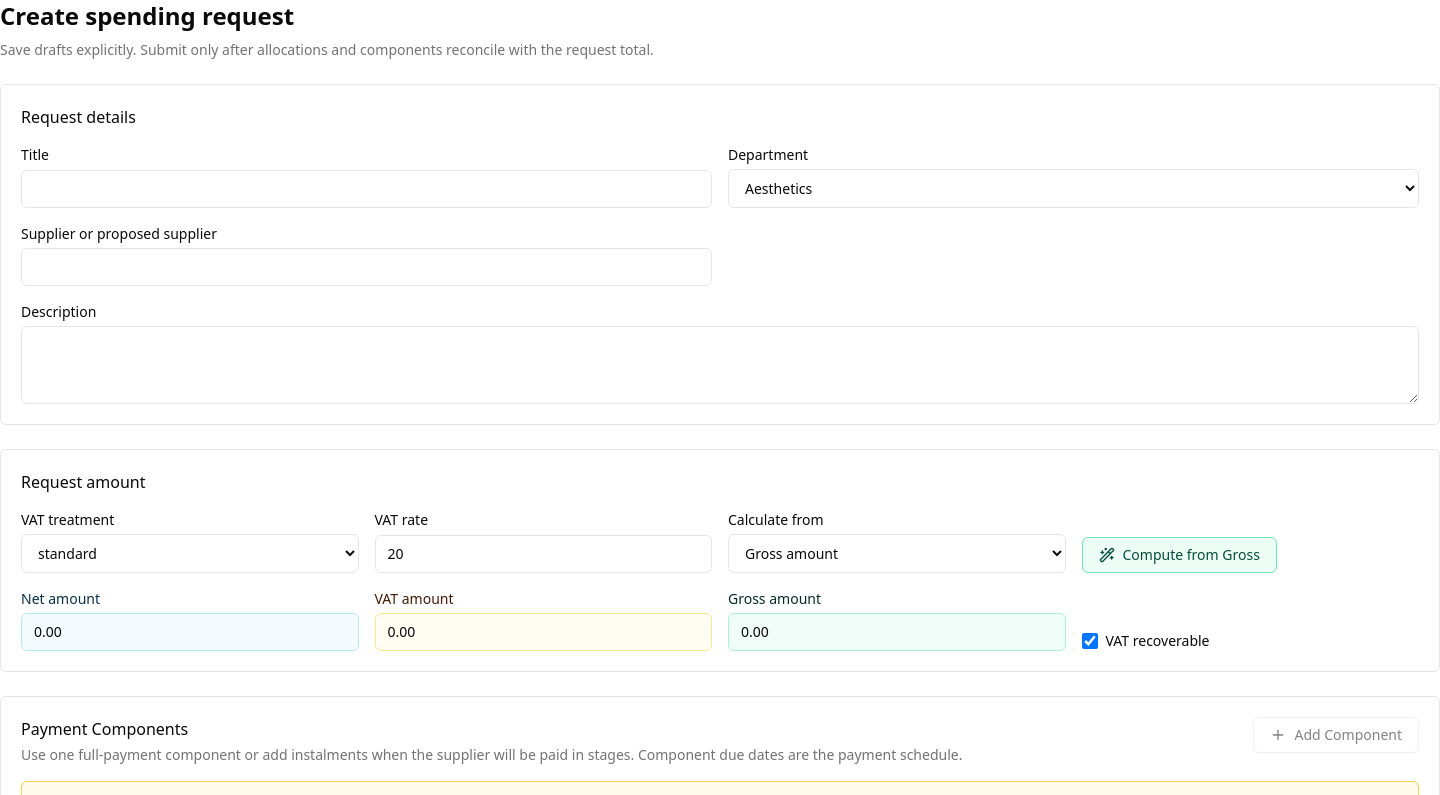
Test case: Stage 5 spending request panels › gates payment components until parent request totals reconcile
Replace the text in the field labelled "Gross amount" with "2000.00" at (897, 632), box [728, 613, 1066, 651]
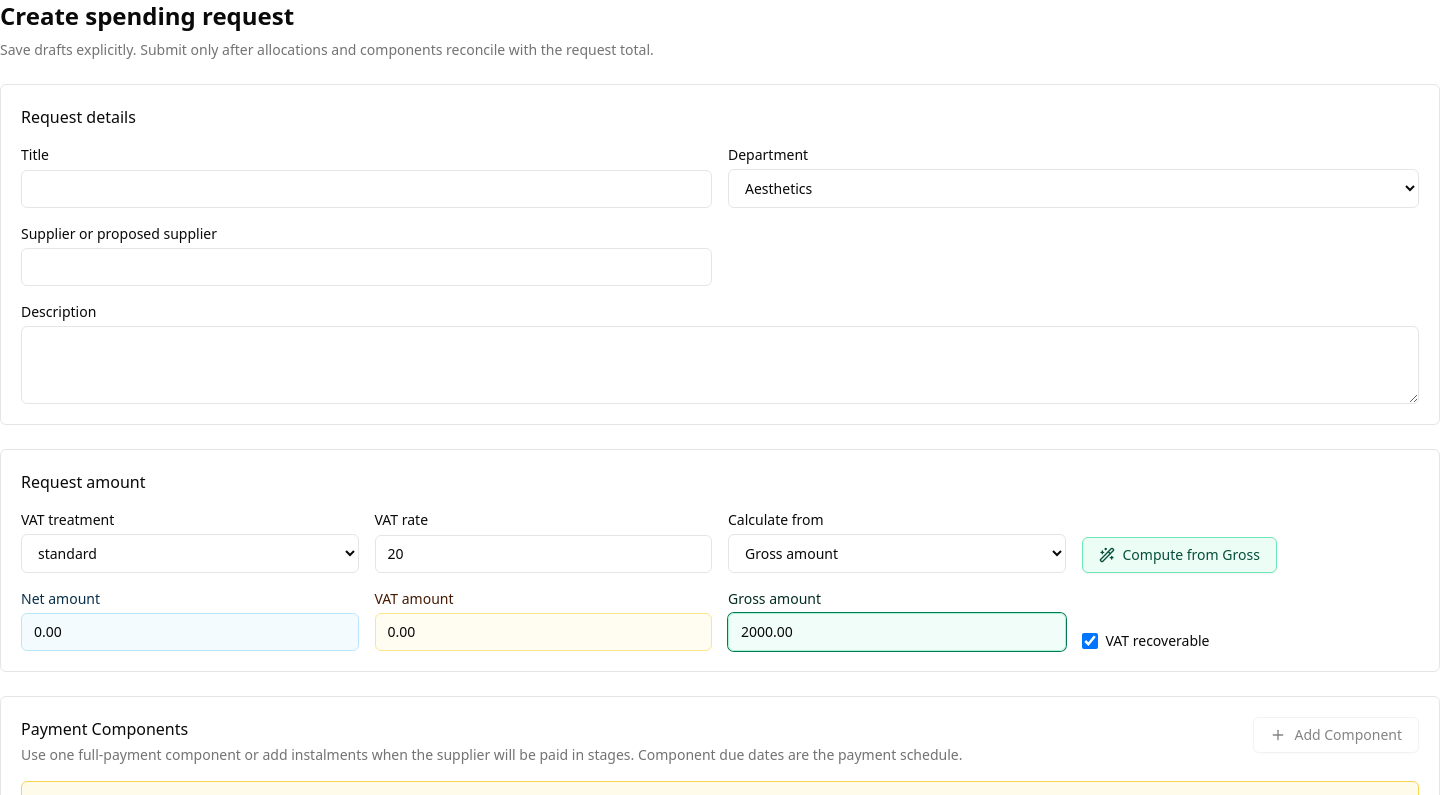
Expected: the text "Component 1 - Full payment" is not shown
Expected: the button "Add Component" is disabled, [1253, 717, 1419, 753]
Click the button "Compute from Gross" at (1179, 555), box [1082, 537, 1277, 573]
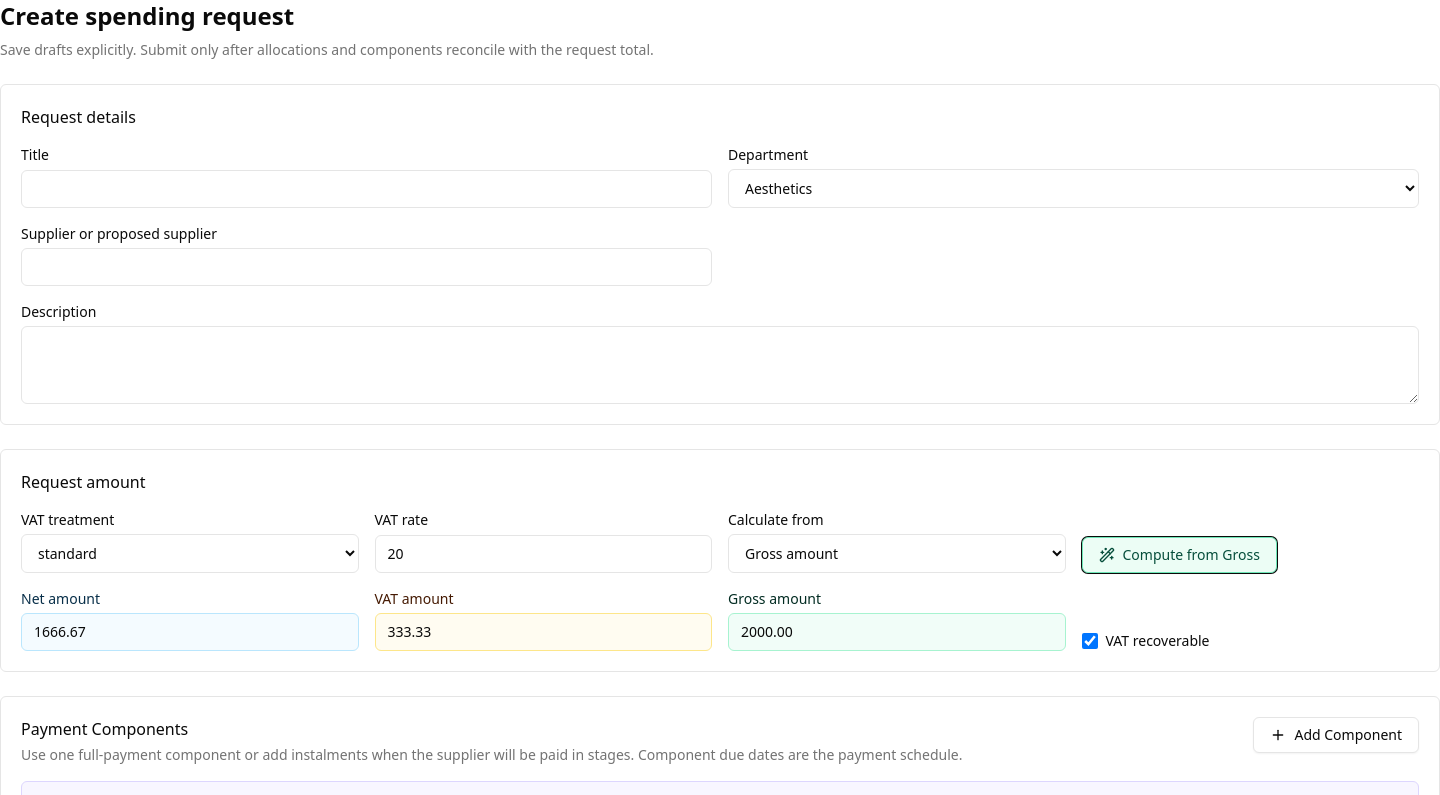
Result: the button "Add Component" is enabled at [1253, 717, 1419, 753]
